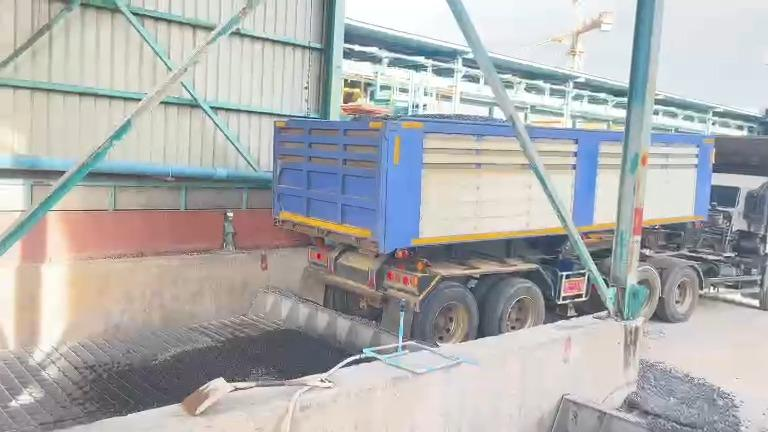gravel: (622, 361, 747, 431)
